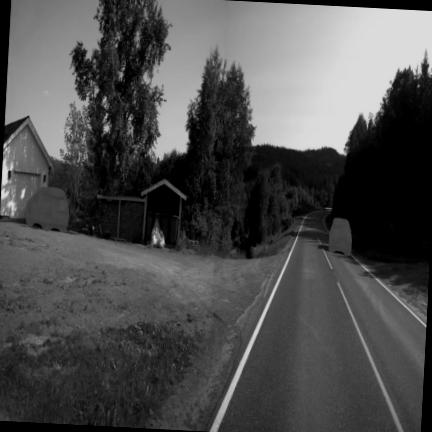Road: (212, 211, 425, 431)
